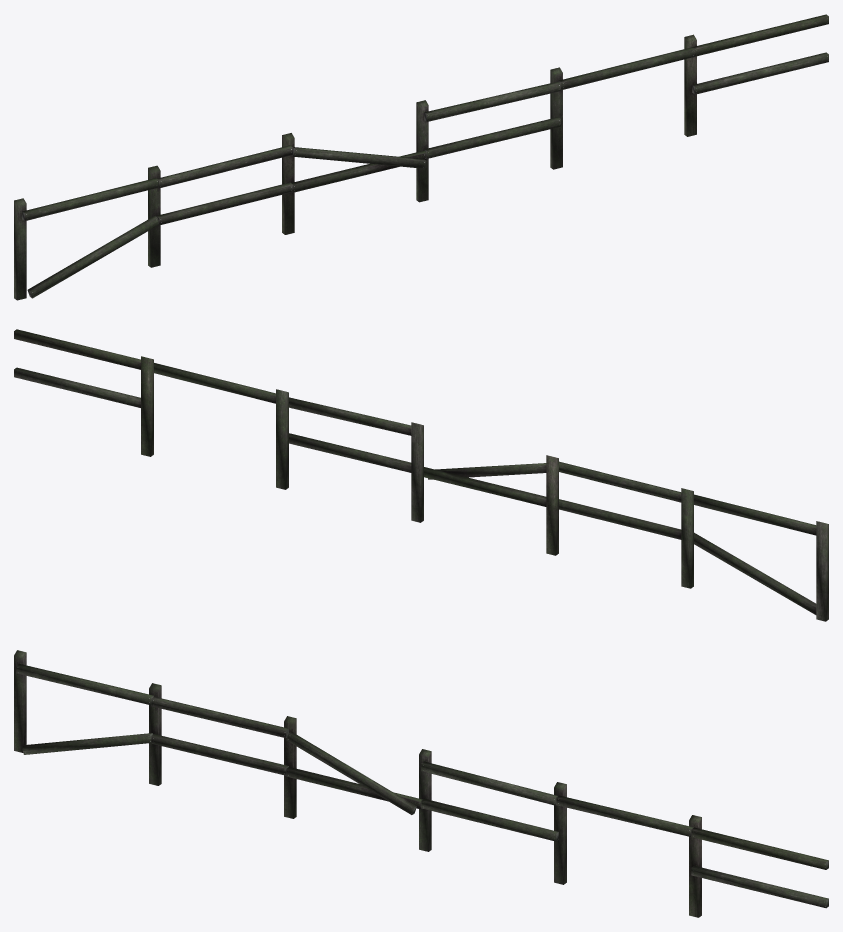
Rendered from vv_cerca_a.glb.
3 views of the same model, one above another, from view 1: azimuth 30°, elevation 25°; view 2: azimuth 150°, elevation 25°; view 3: azimuth 330°, elevation 25° (orthographic).
Parts seen in each view (by area): view 1: fence1, fence6, fence5, fence1.001, fence4, fence3; view 2: fence1, fence6, fence1.001, fence5, fence4, fence3; view 3: fence6, fence5, fence1.001, fence1, fence4, fence3.
Part boxes in pixels (box(x1,y1,x2,y2)): fence1: box(14, 178, 159, 300); fence6: box(684, 14, 828, 136); fence5: box(416, 81, 560, 202); fence1.001: box(148, 145, 292, 267); fence4: box(282, 133, 426, 234); fence3: box(550, 47, 694, 169); fence1: box(694, 494, 828, 621); fence6: box(14, 329, 153, 456); fence1.001: box(559, 461, 693, 588); fence5: box(289, 397, 423, 522); fence4: box(424, 455, 558, 555); fence3: box(154, 363, 288, 489); fence6: box(689, 815, 828, 917); fence5: box(419, 749, 558, 851); fence1.001: box(149, 683, 288, 785); fence1: box(14, 650, 153, 754); fence4: box(284, 716, 422, 818); fence3: box(554, 782, 693, 884).
Size of the model in its own units: 4225 by 488 by 83.67.
Materials: 1 (1 with a texture image).
